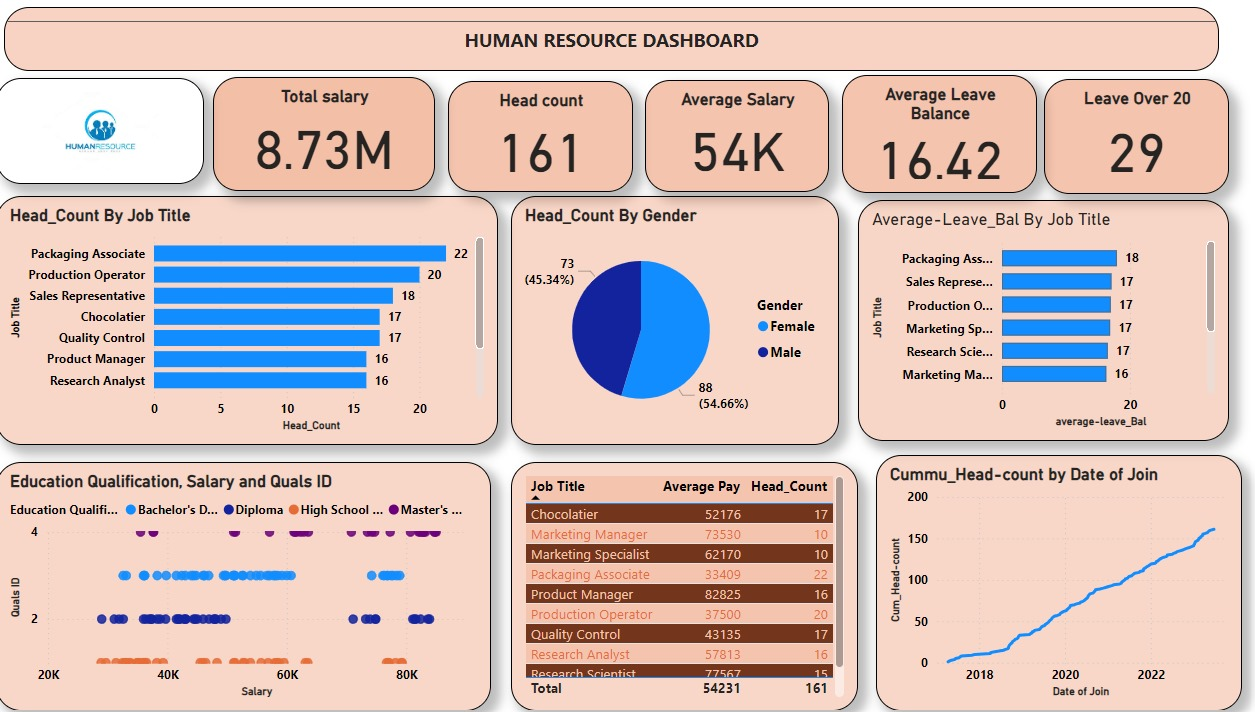

This screenshot's page, from the dashboard's own definition file:
{"tool":"powerbi","page":{"name":"Page 5","canvas":[1280,720],"ordinal":2},"visuals":[{"type":"card","title":"     Head count","fields":{"Values":["_Measure.Head_Count"]},"box":[470.9,82.7,184.8,110.9],"z":0,"group":"g1"},{"type":"group","id":"g1","title":"Group 1","box":[470.9,76.9,781,118.7],"z":0},{"type":"card","title":"Average Salary","fields":{"Values":["_Measure.average_pay"]},"box":[668.3,81.8,183.8,111.9],"z":1000,"group":"g1"},{"type":"image","box":[19.5,79.8,207.2,106],"z":1000},{"type":"card","title":"Average Leave Balance","fields":{"Values":["_Measure.average-leave_Bal"]},"box":[864.8,76.9,195.5,117.7],"z":2000,"group":"g1"},{"type":"clusteredBarChart","title":"Head_Count By Job Title","fields":{"Category":["hrdata.Job Title"],"Y":["_Measure.Head_Count"]},"box":[19.5,198.4,501.9,249],"z":2000},{"type":"card","title":"Leave Over 20","fields":{"Values":["_Measure.LBOver 20"]},"box":[1067.1,80.8,184.8,114.8],"z":3000,"group":"g1"},{"type":"scatterChart","fields":{"Y":["Education Qualification (2).Quals ID"],"X":["hrdata.Salary"],"Series":["hrdata.Education Qualification"]},"box":[19.5,464,494.1,249],"z":3000},{"type":"pieChart","title":"Head_Count By Gender","fields":{"Y":["_Measure.Head_Count"],"Category":["hrdata.Gender"]},"box":[534,198.4,356,249],"z":4000},{"type":"tableEx","fields":{"Values":["hrdata.Job Title","_Measure.average_pay","_Measure.Head_Count"]},"box":[534,464,347.2,249],"z":5000},{"type":"lineChart","title":"Cummu_Head-count by Date of Join","fields":{"Y":["_Measure.Cum_Head-count"],"Category":["hrdata.Date of Join"]},"box":[898.7,457.1,366.7,255.8],"z":6000},{"type":"clusteredBarChart","title":"Average-Leave_Bal By Job Title","fields":{"Y":["_Measure.average-leave_Bal"],"Category":["hrdata.Job Title"]},"box":[898.7,202.3,353.1,240.2],"z":7000},{"type":"card","title":"Total salary","fields":{"Values":["_Measure.Total_Salary"]},"box":[236.4,78.8,221.8,113.8],"z":7001},{"type":"textbox","box":[27.2,8.8,1214.8,64.2],"z":7002}]}

Visuals, with their boxes in screenshot pixels (x1, y1, x2, y2), scaled from the page's 1280x720 canvas onto the 1255x712 screenshot:
"     Head count" card: 462 82 643 191
"Group 1" group: 462 76 1227 193
"Average Salary" card: 655 81 835 192
image: 19 79 222 184
"Average Leave Balance" card: 848 76 1040 192
"Head_Count By Job Title" clusteredBarChart: 19 196 511 442
"Leave Over 20" card: 1046 80 1227 193
scatterChart - Education Qualification (2).Quals ID x hrdata.Salary: 19 459 504 705
"Head_Count By Gender" pieChart: 524 196 873 442
tableEx - hrdata.Job Title x _Measure.average_pay: 524 459 864 705
"Cummu_Head-count by Date of Join" lineChart: 881 452 1241 705
"Average-Leave_Bal By Job Title" clusteredBarChart: 881 200 1227 438
"Total salary" card: 232 78 449 190
textbox: 27 9 1218 72
